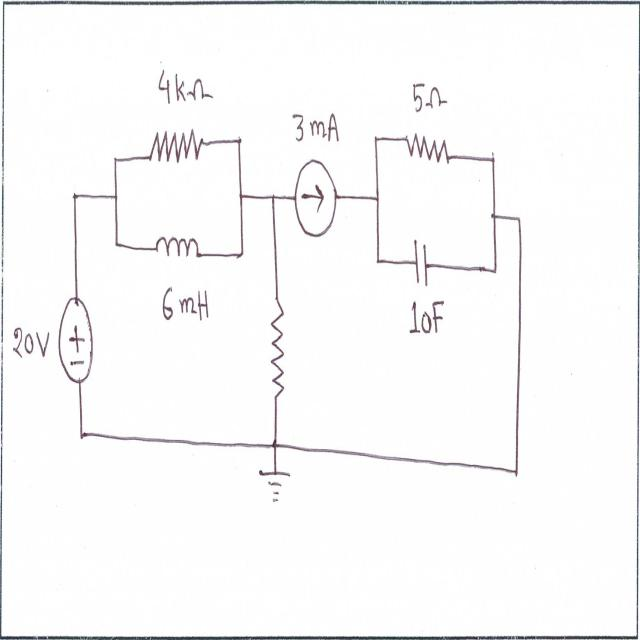capacitor: (413, 231, 433, 290)
current_source: (288, 150, 344, 243)
ground: (248, 464, 294, 508)
inductor: (143, 231, 206, 269)
resistor: (144, 127, 211, 175), (401, 122, 456, 176), (270, 289, 288, 408)
voltage_source: (56, 290, 96, 394)
